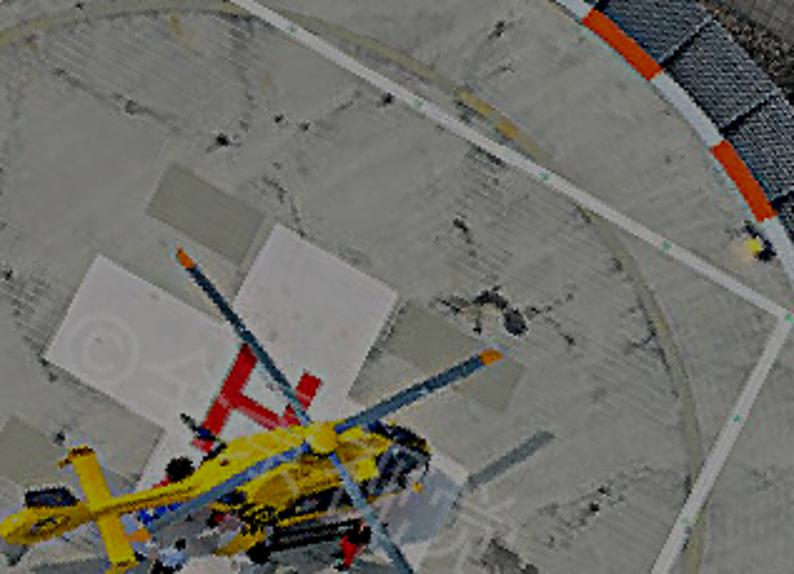Apron: (5, 10, 724, 574)
